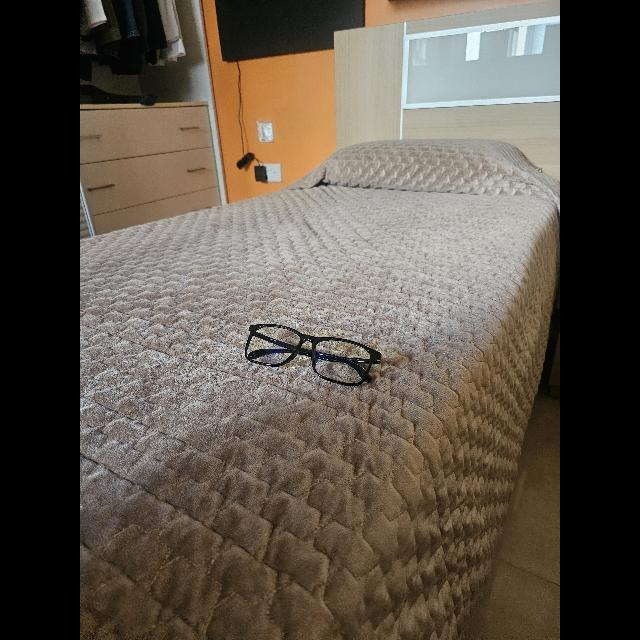glasses: (245, 324, 381, 386)
